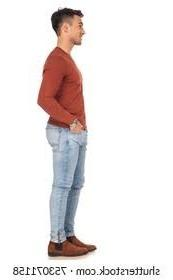Human: (39, 8, 106, 267)
